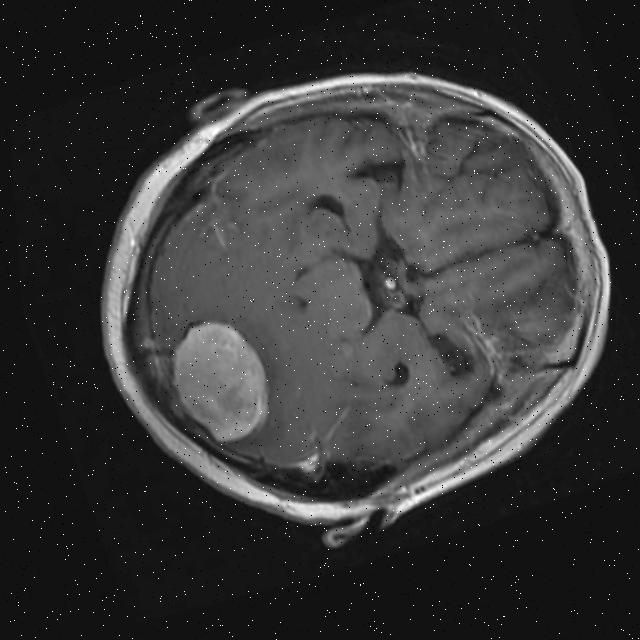Meningioma: (151, 309, 287, 454)
